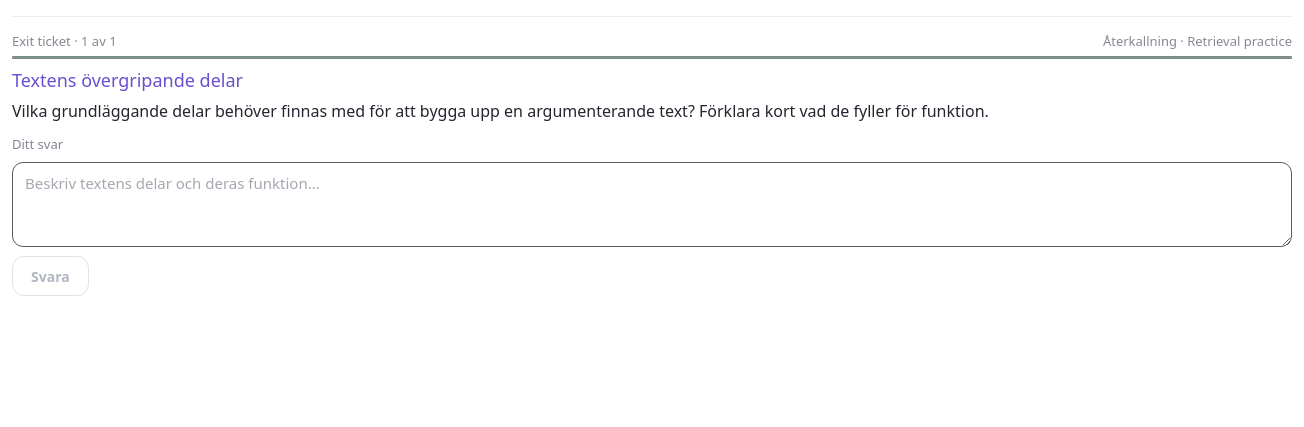
Scenario: chapter exit ticket › ends by showing what the student can do now and how the first answer compares with the latest
Type "Tes, argument, motargument och avslutning." into the text box labelled "Ditt svar". click: (652, 205)
box: [12, 162, 1292, 247]
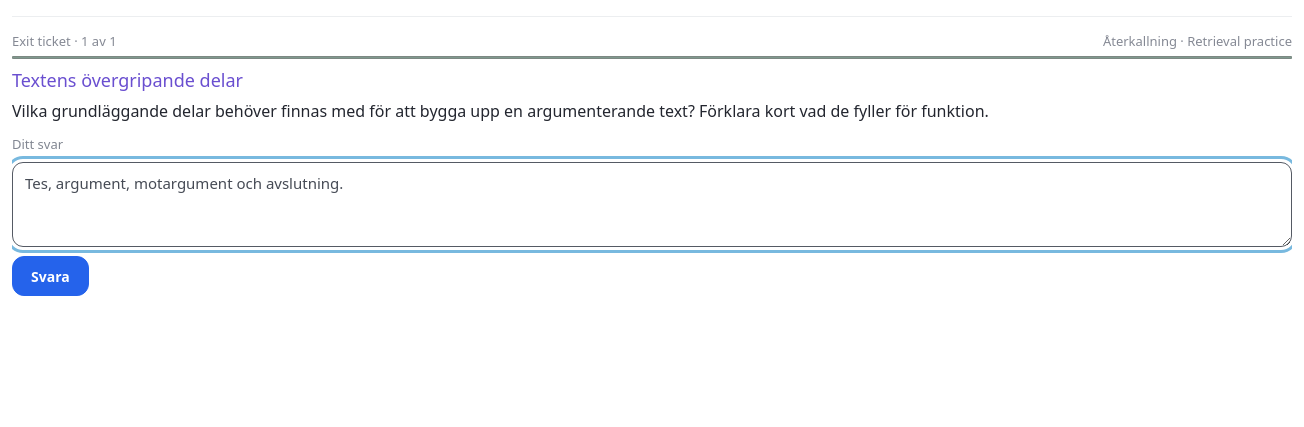
Click the button "Svara". click: (50, 276)
box: [12, 256, 89, 296]
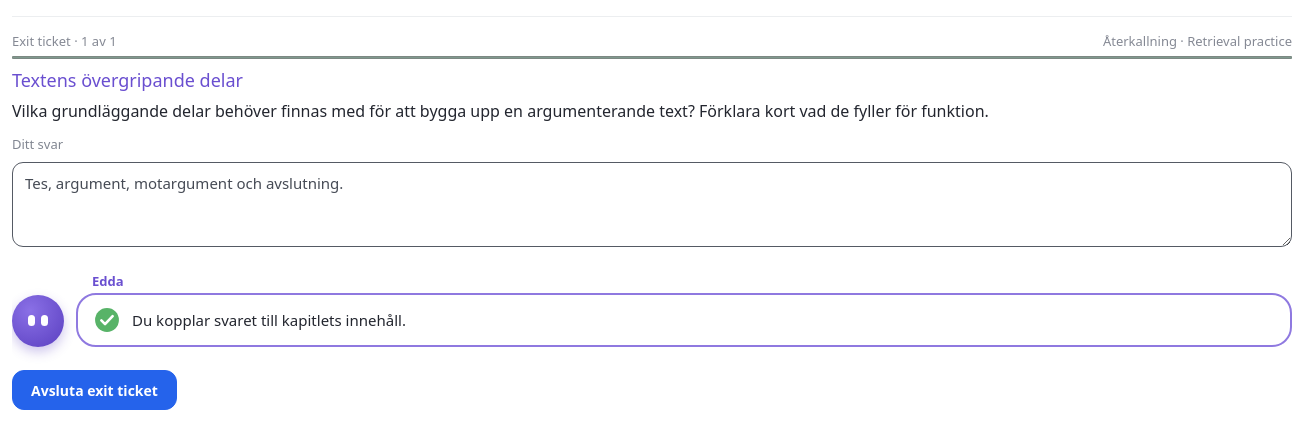
Click the button "Avsluta exit ticket". click: (94, 390)
box: [12, 370, 177, 410]
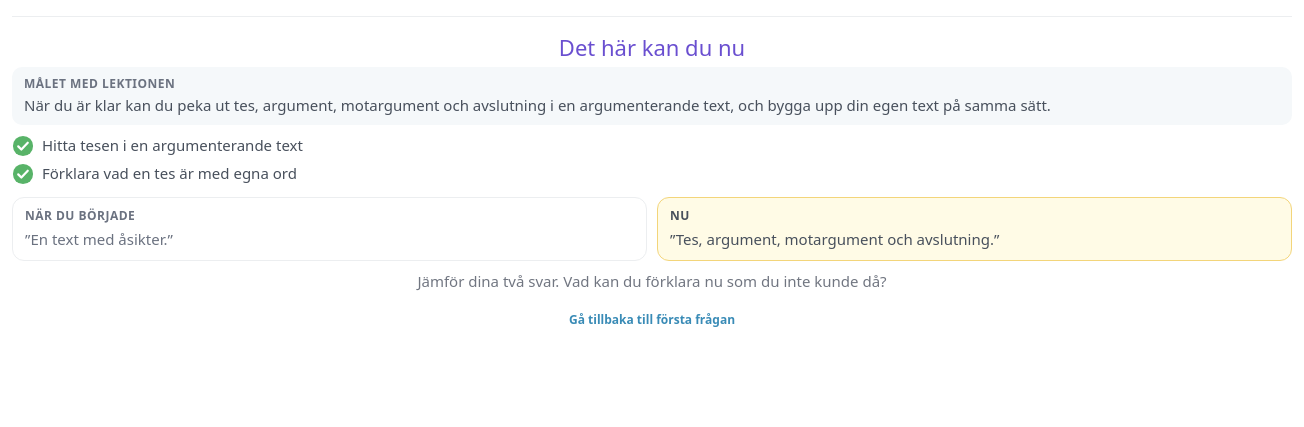
Result: the element named "Exit ticket klar" shows "Det här kan du nu" at [559, 32, 745, 62]
Result: the element named "Exit ticket klar" shows "När du är klar kan du peka ut tes, argument, motargument och avslutning i en argumenterande text, och bygga upp din egen text på samma sätt." at [24, 95, 1051, 115]
Result: the list items read "Hitta tesen i en argumenterande text", "Förklara vad en tes är med egna ord", in this order at [12, 135, 303, 157]; [12, 163, 297, 185]
